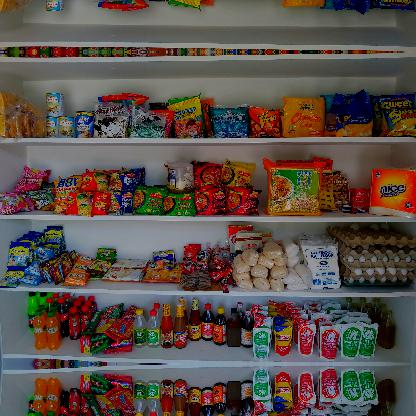Lady-s-Choice: (167, 162, 195, 193)
